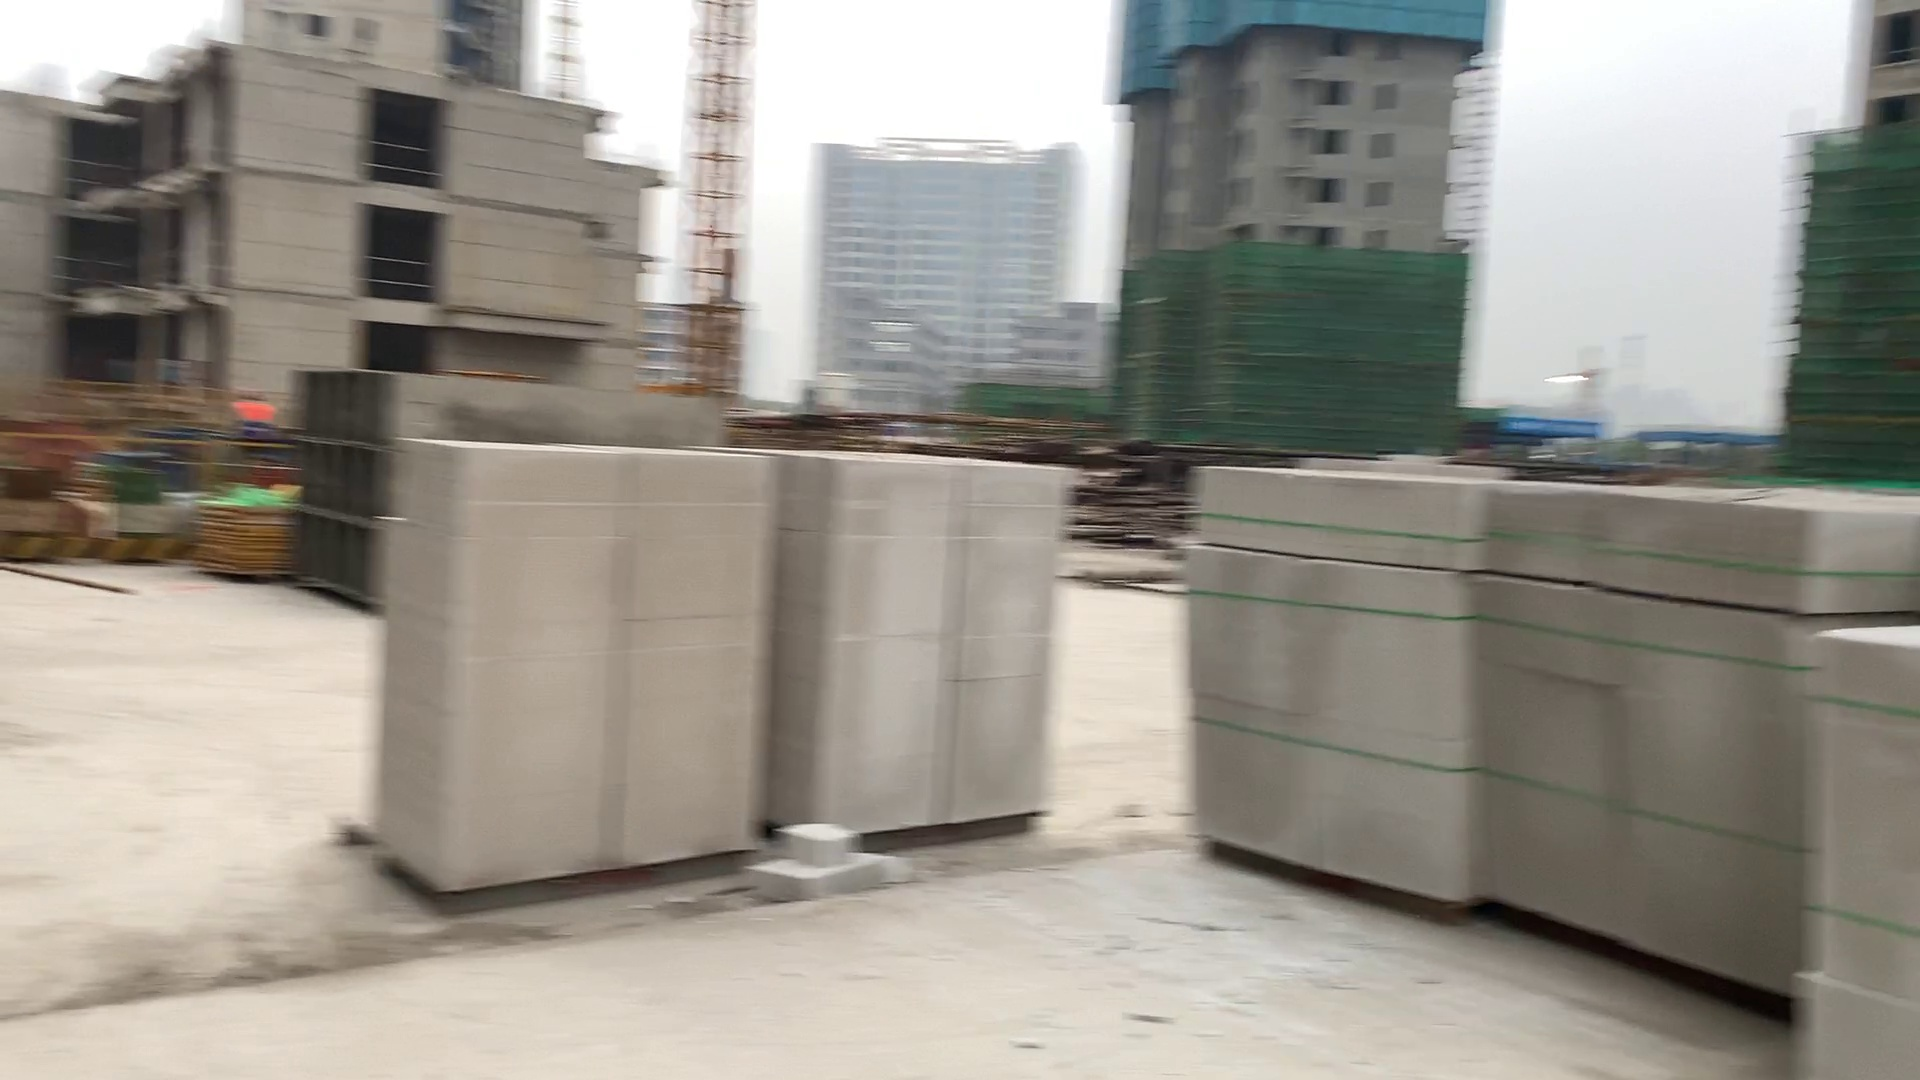brickwork: (1476, 481, 1815, 978), (388, 438, 761, 877), (1185, 468, 1462, 920), (789, 450, 1056, 837), (1811, 633, 1920, 1077)
